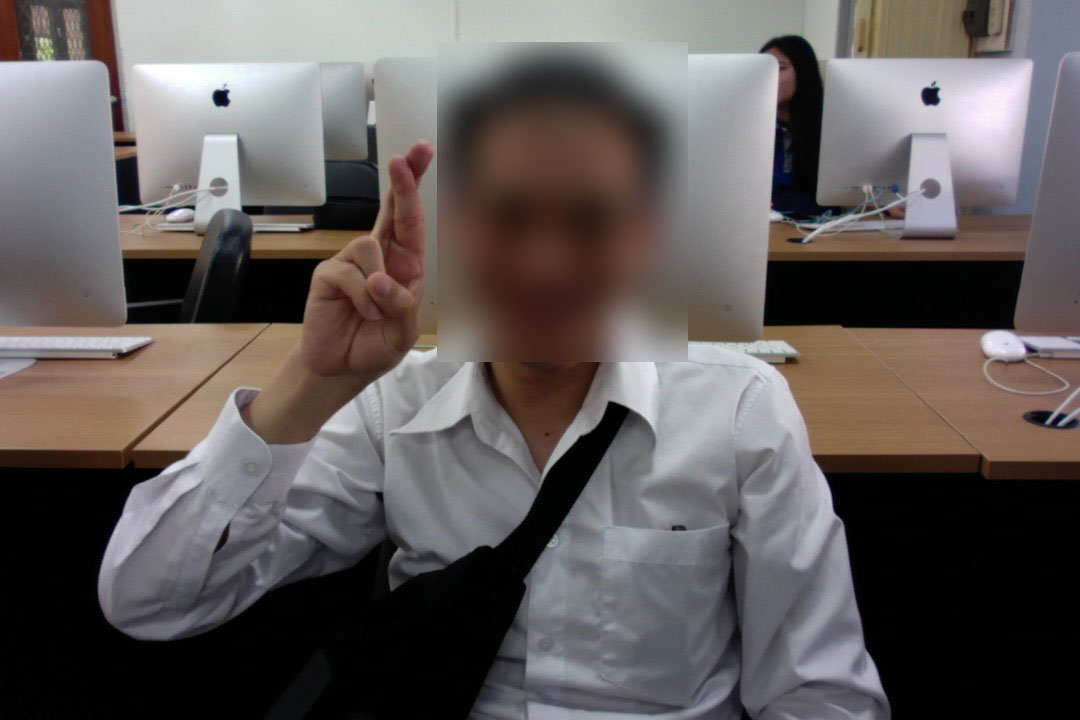rao: (290, 138, 447, 387)
